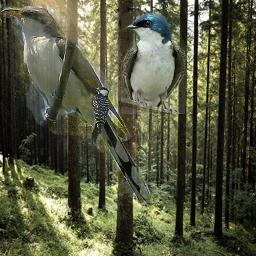Cuckoo: (0, 4, 153, 205)
Swallow: (121, 12, 187, 114)
Woodpecker: (90, 85, 110, 144)
